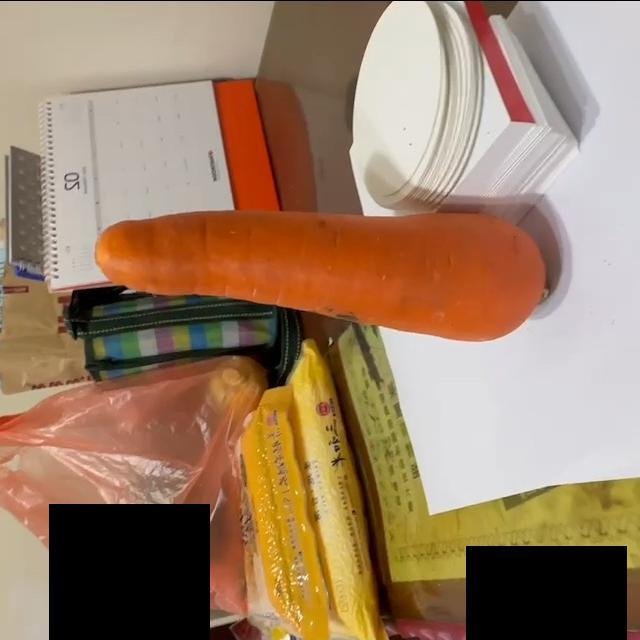carrot: (97, 209, 553, 348)
